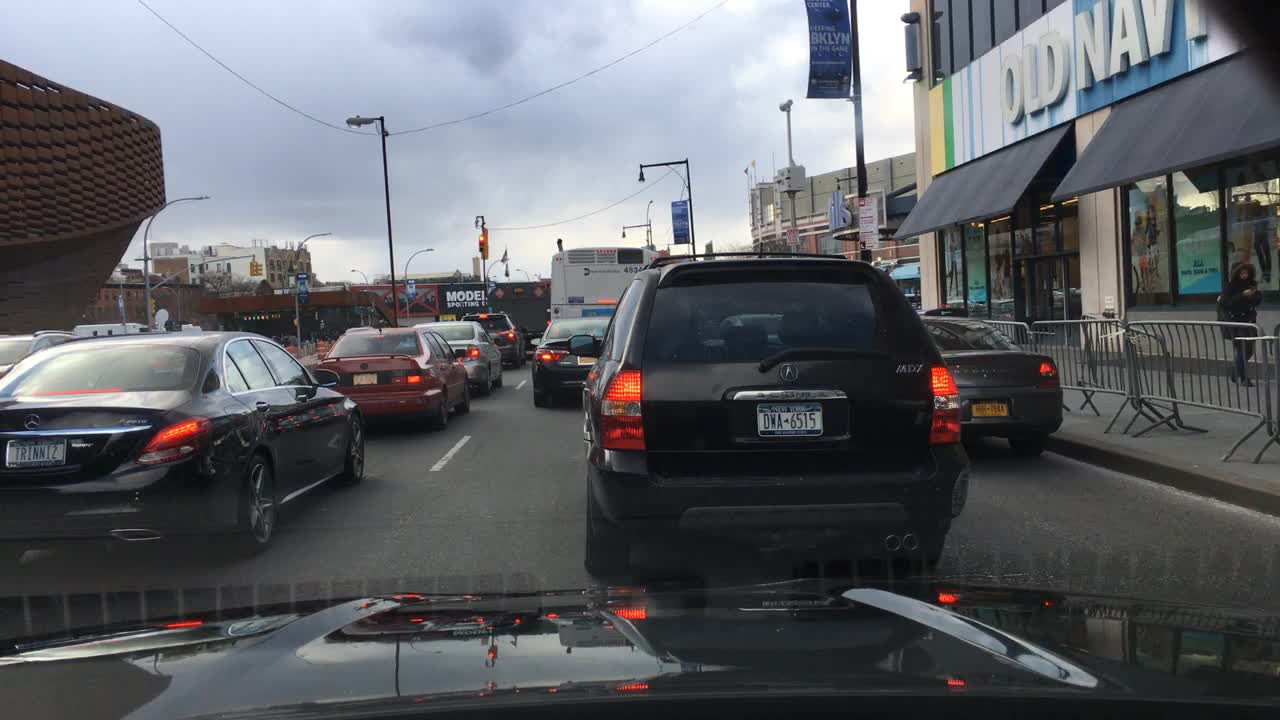bus: (547, 243, 656, 319)
car: (583, 240, 969, 579), (2, 328, 366, 576), (917, 312, 1061, 460), (316, 322, 470, 429), (531, 315, 613, 406), (411, 319, 504, 395), (0, 328, 78, 377), (460, 312, 527, 367), (74, 321, 149, 336)
person: (1215, 257, 1263, 387)
traffic light: (477, 232, 485, 252), (248, 259, 256, 275), (148, 299, 155, 316), (256, 262, 263, 275)
traffic sign: (857, 194, 882, 249)
truck: (435, 280, 547, 340)
